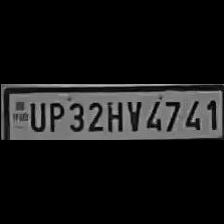1: (202, 97, 218, 130)
2: (84, 98, 104, 132)
3: (64, 99, 84, 133)
4: (180, 97, 202, 131), (142, 97, 162, 133)
7: (161, 97, 179, 132)
H: (104, 97, 124, 133)
P: (44, 99, 64, 134)
U: (26, 100, 44, 132)
V: (123, 97, 141, 133)
